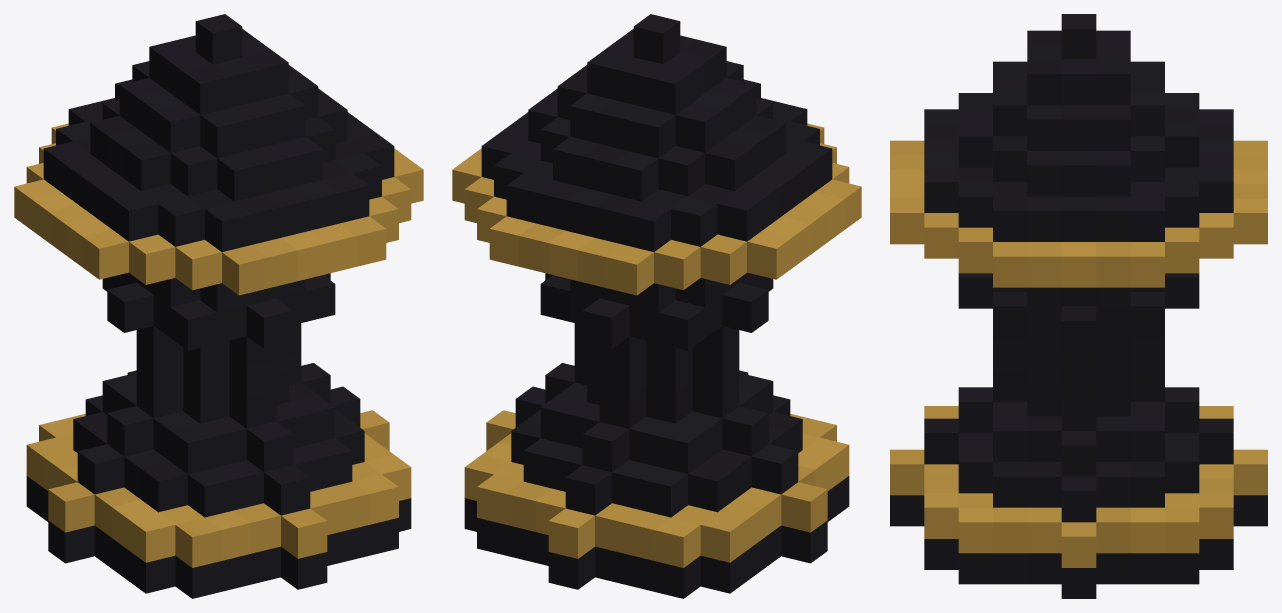
Rendered from black_pawn.glb.
The picture shows the model from 3 angles, left to right: view 1: azimuth 30°, elevation 25°; view 2: azimuth 150°, elevation 25°; view 3: azimuth 270°, elevation 25°; orthographic projection.
Bounding box in the file's own units: 1.1 × 1.6 × 1.1.
